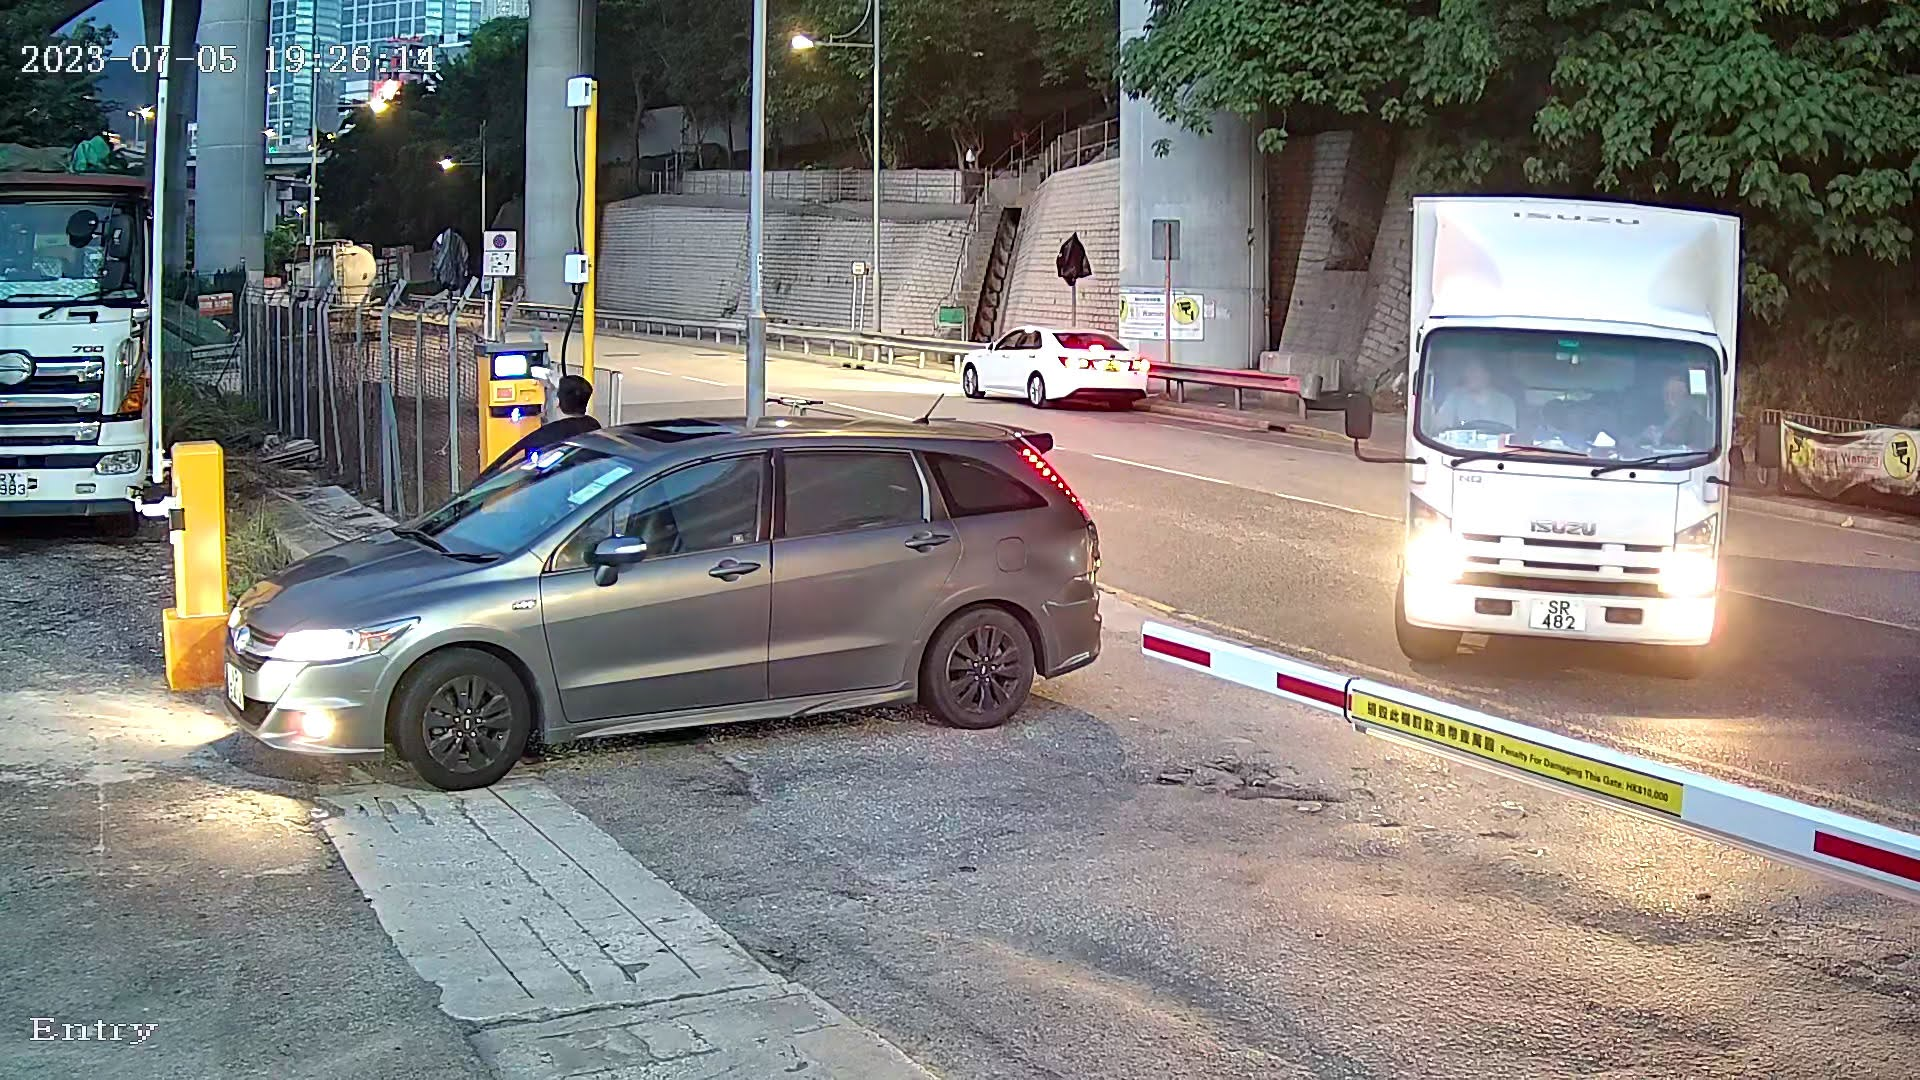privatecar: (196, 326, 1163, 812)
